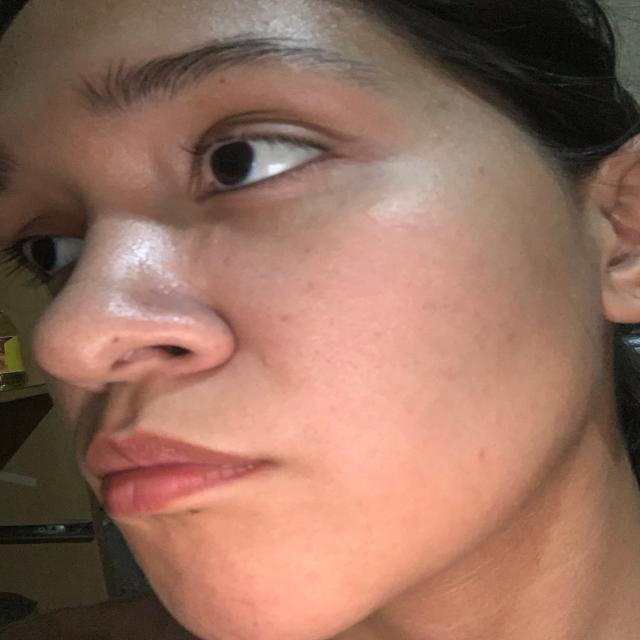Acne: (315, 12, 355, 28), (213, 254, 247, 271), (420, 298, 442, 318), (186, 504, 210, 522), (472, 444, 494, 463), (434, 119, 457, 137), (248, 613, 269, 631), (469, 162, 495, 176), (260, 17, 282, 30), (108, 332, 127, 346), (211, 233, 228, 247), (300, 246, 319, 257)
Englarged-Pores: (248, 280, 366, 386)
